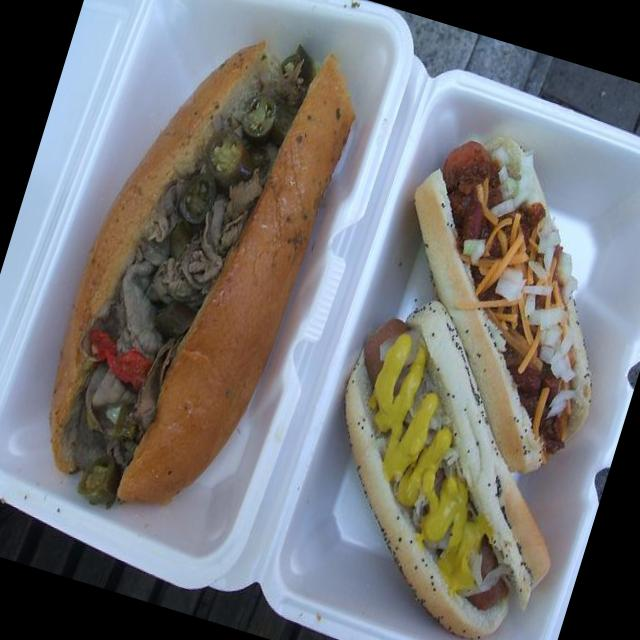hot dog: (284, 281, 615, 640), (343, 107, 640, 486)
sandwich: (17, 0, 372, 545)
